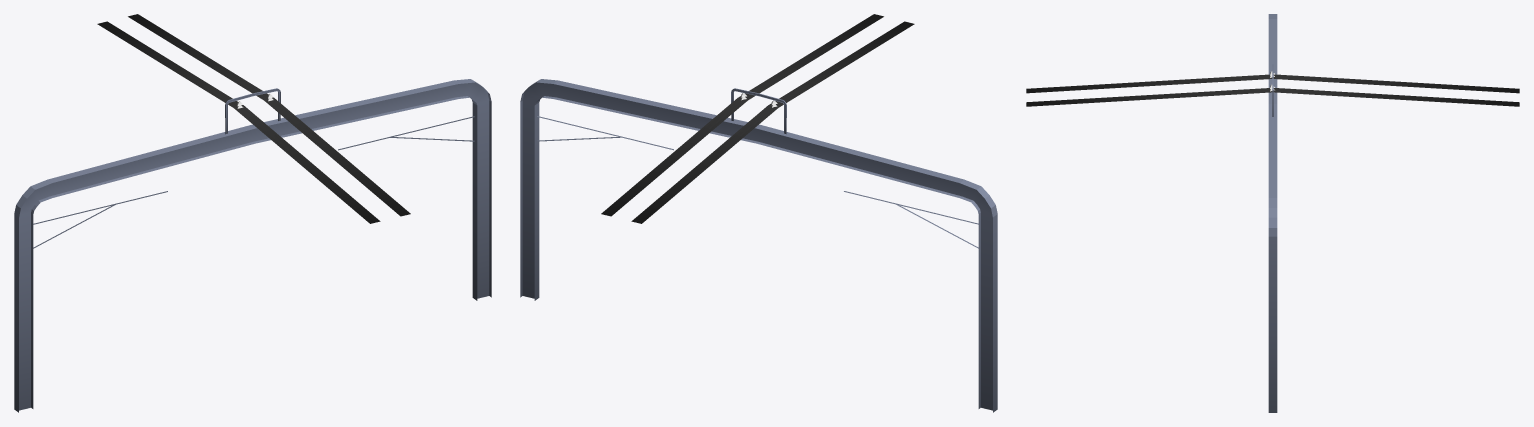
File: AMB_KASENCHU_TOYO.glb
3 renders of one model, left to right at view 1: azimuth 30°, elevation 25°; view 2: azimuth 150°, elevation 25°; view 3: azimuth 270°, elevation 25°, orthographic. The views are drawn at different scales.
Visible parts, largest first — view 1: obj19, obj20, obj2, obj1; view 2: obj19, obj20, obj2, obj1; view 3: obj20, obj1, obj19.
Boxes of the visible parts, x1,y1,x2,y2 form: obj19: (47,80,457,197); obj20: (97,14,410,223); obj2: (14,179,167,412); obj1: (338,79,491,300); obj19: (554,80,964,197); obj20: (601,14,914,223); obj2: (844,179,997,412); obj1: (520,79,673,300); obj20: (1026,64,1519,116); obj1: (1268,198,1277,412); obj19: (1268,19,1277,197).
Size of the model in its own units: 39.55 by 20.78 by 39.61.
Materials: 5 (5 with a texture image).
